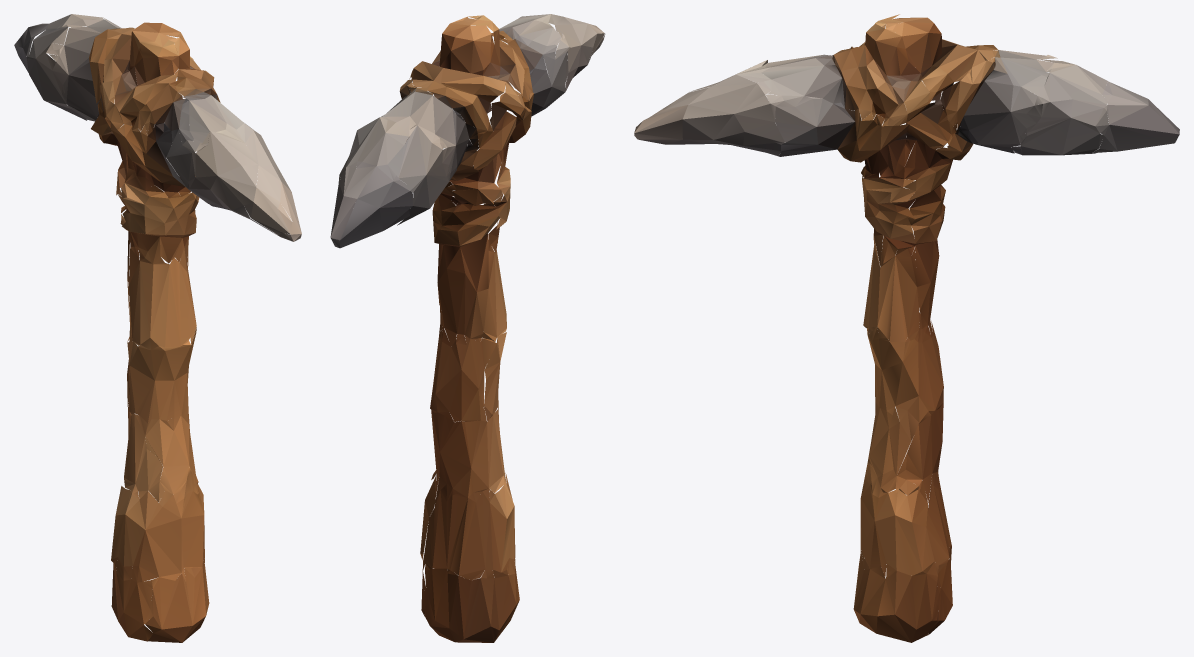
File: stonePickaxe.glb
3 renders of one model, left to right at view 1: azimuth 30°, elevation 25°; view 2: azimuth 150°, elevation 25°; view 3: azimuth 270°, elevation 25°, orthographic.
Parts seen in each view (by area): view 1: 0_stonePickaxe; view 2: 0_stonePickaxe; view 3: 0_stonePickaxe.
Boxes of the visible parts, left/top/right/bottom form: 0_stonePickaxe: left=14, top=14, right=301, bottom=642; 0_stonePickaxe: left=330, top=14, right=605, bottom=642; 0_stonePickaxe: left=634, top=14, right=1179, bottom=642.
Bounding box in the file's own units: 0.1087 × 0.5801 × 0.4727.
